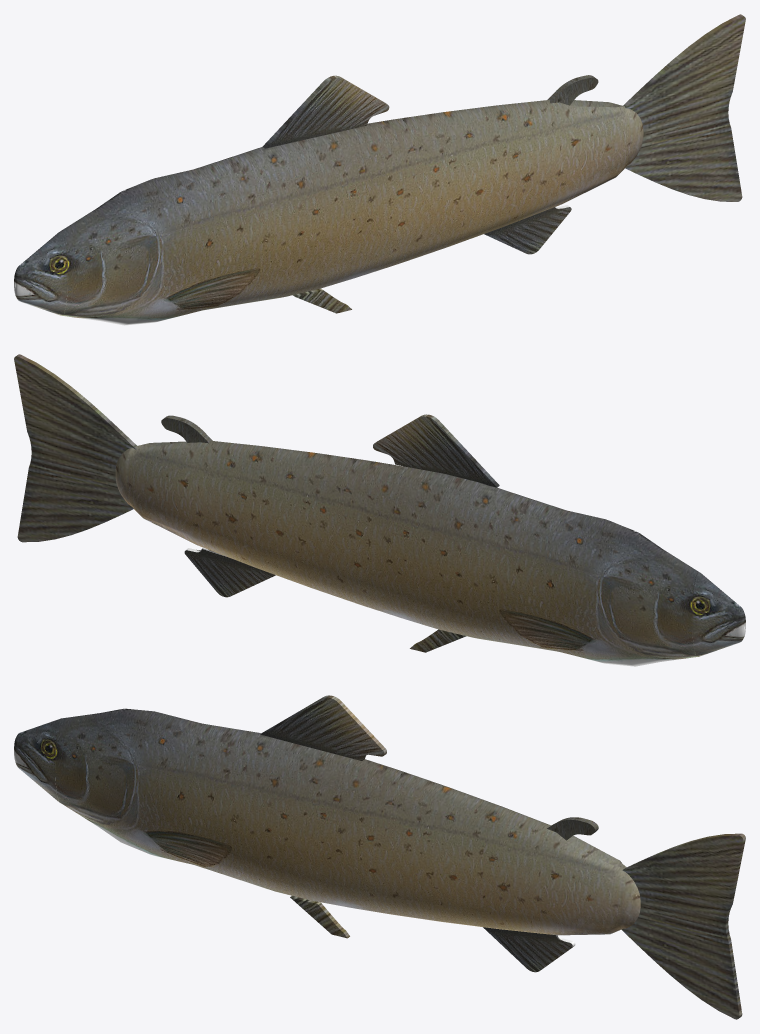
Rendered from Atlantic salmon.fbx.
The picture shows the model from 3 angles, top to bottom: view 1: azimuth 30°, elevation 25°; view 2: azimuth 150°, elevation 25°; view 3: azimuth 330°, elevation 25°; orthographic projection.
Visible parts, largest first — view 1: Line008, Line002, Line005, Line009, Line003, Line004; view 2: Line008, Line002, Line005, Line009, Line003, Line004; view 3: Line008, Line002, Line005, Line009, Line004, Line003.
Boxes of the visible parts, x1,y1,x2,y2 form: Line008: (14, 100, 643, 325); Line002: (622, 14, 745, 201); Line005: (262, 75, 389, 148); Line009: (484, 205, 571, 254); Line003: (547, 75, 598, 105); Line004: (293, 288, 351, 313); Line008: (115, 440, 745, 666); Line002: (14, 354, 136, 542); Line005: (373, 414, 499, 487); Line009: (184, 547, 275, 597); Line003: (161, 415, 212, 443); Line004: (410, 629, 466, 652); Line008: (14, 708, 640, 935); Line002: (621, 833, 745, 1019); Line005: (260, 695, 386, 760); Line009: (483, 927, 575, 972); Line004: (290, 896, 349, 938); Line003: (547, 817, 598, 840).
Bounding box in the file's own units: 941 × 291 × 74.06.
2 materials, 2 textured.
